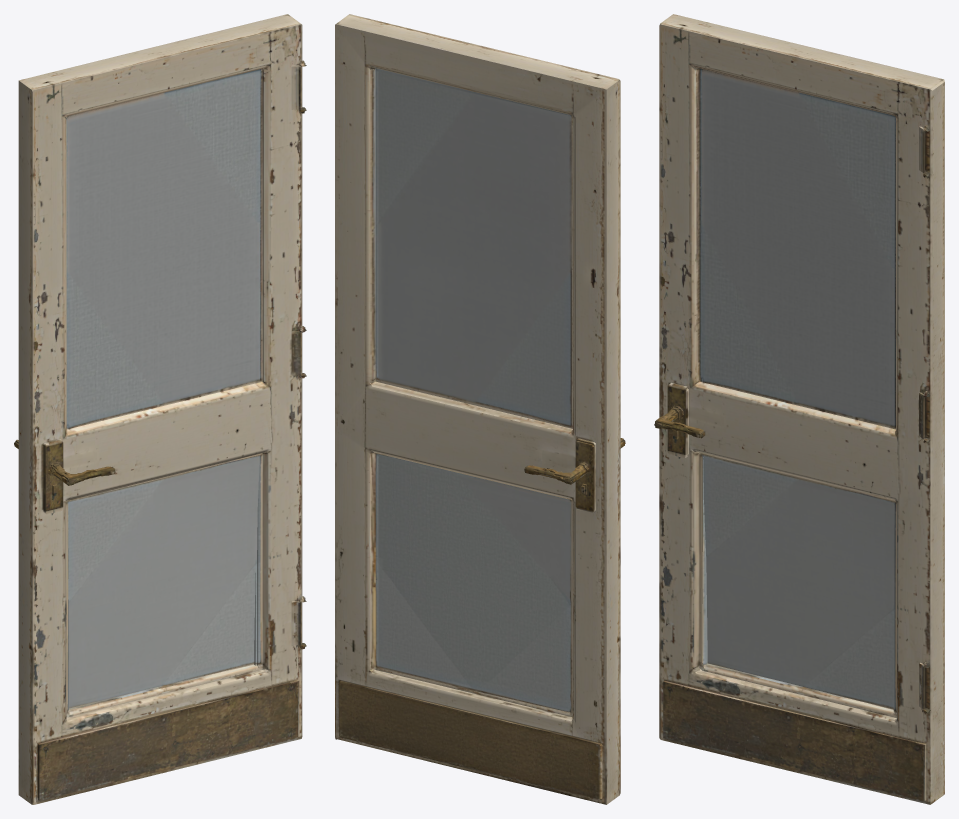
File: asy_ward_door.glb
3 views of the same model, side by side, from view 1: azimuth 30°, elevation 25°; view 2: azimuth 150°, elevation 25°; view 3: azimuth 330°, elevation 25° (orthographic).
Visible parts, largest first — view 1: tripo_node_fe718fd2-9dc7-40a6-aad6-e8c5eb8298fc; view 2: tripo_node_fe718fd2-9dc7-40a6-aad6-e8c5eb8298fc; view 3: tripo_node_fe718fd2-9dc7-40a6-aad6-e8c5eb8298fc.
Boxes of the visible parts, x1,y1,x2,y2 form: tripo_node_fe718fd2-9dc7-40a6-aad6-e8c5eb8298fc: [14, 14, 306, 804]; tripo_node_fe718fd2-9dc7-40a6-aad6-e8c5eb8298fc: [335, 14, 625, 804]; tripo_node_fe718fd2-9dc7-40a6-aad6-e8c5eb8298fc: [654, 14, 944, 804].
Bounding box in the file's own units: 0.8342 × 2.1 × 0.2918.
Materials: 1 (1 with a texture image).
